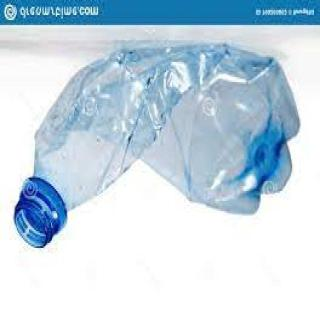Anorganik: (15, 42, 304, 259)
